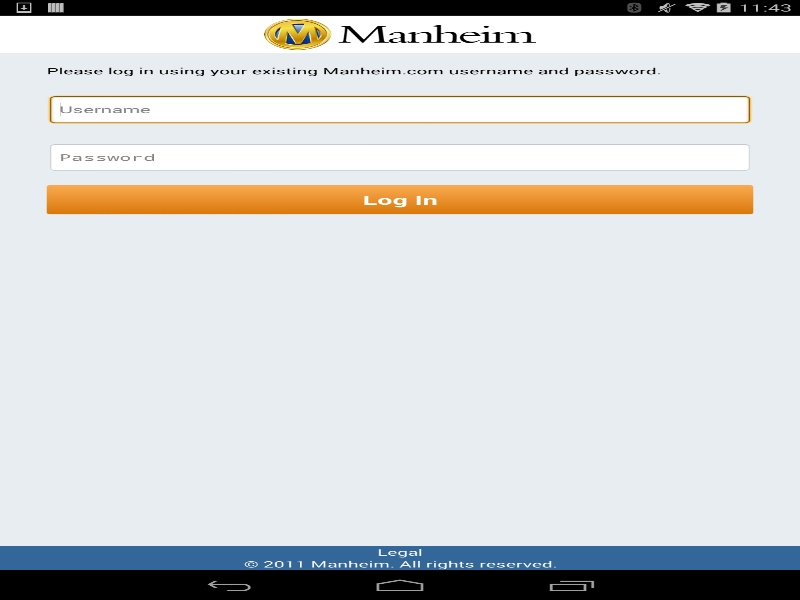Button: (46, 185, 753, 214)
Input: (46, 94, 753, 124), (46, 142, 753, 172)
